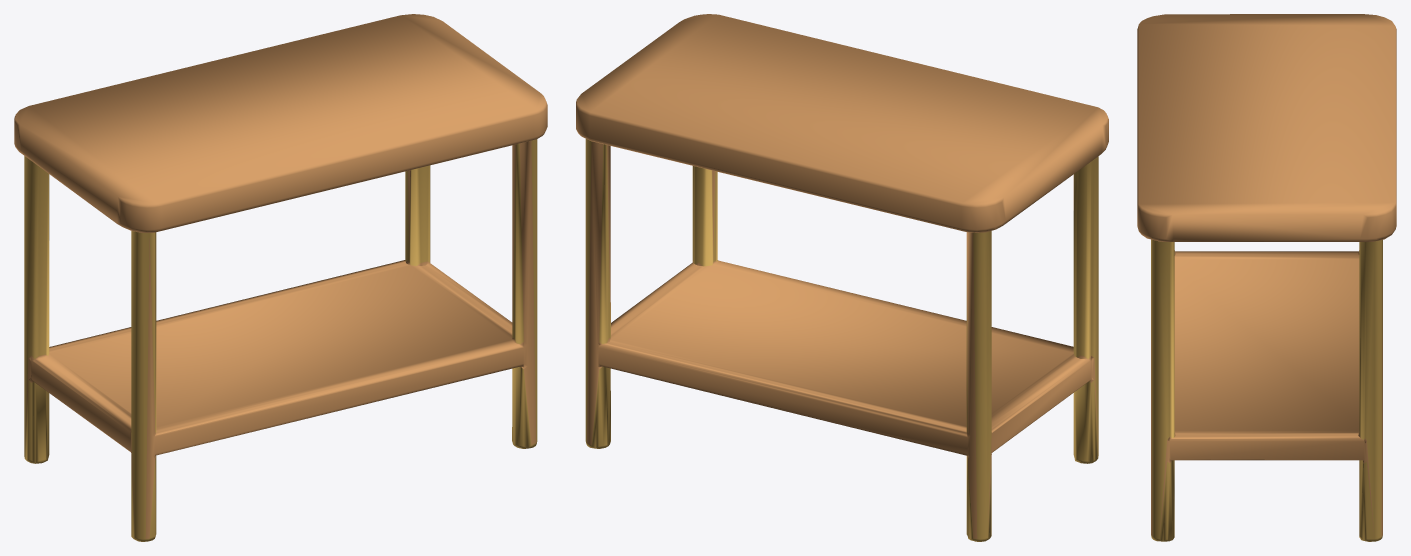
File: GJH_DSP_007.glb
The picture shows the model from 3 angles, left to right: view 1: azimuth 30°, elevation 25°; view 2: azimuth 150°, elevation 25°; view 3: azimuth 270°, elevation 25°; orthographic projection. The views are drawn at different scales.
Parts seen in each view (by area): view 1: GJH-DSP-007; view 2: GJH-DSP-007; view 3: GJH-DSP-007.
Part boxes in pixels (x1,y1,x2,y2): GJH-DSP-007: (14,14,547,541); GJH-DSP-007: (576,14,1108,541); GJH-DSP-007: (1137,14,1396,541).
Size of the model in its own units: 1.1 by 0.85 by 0.6.
